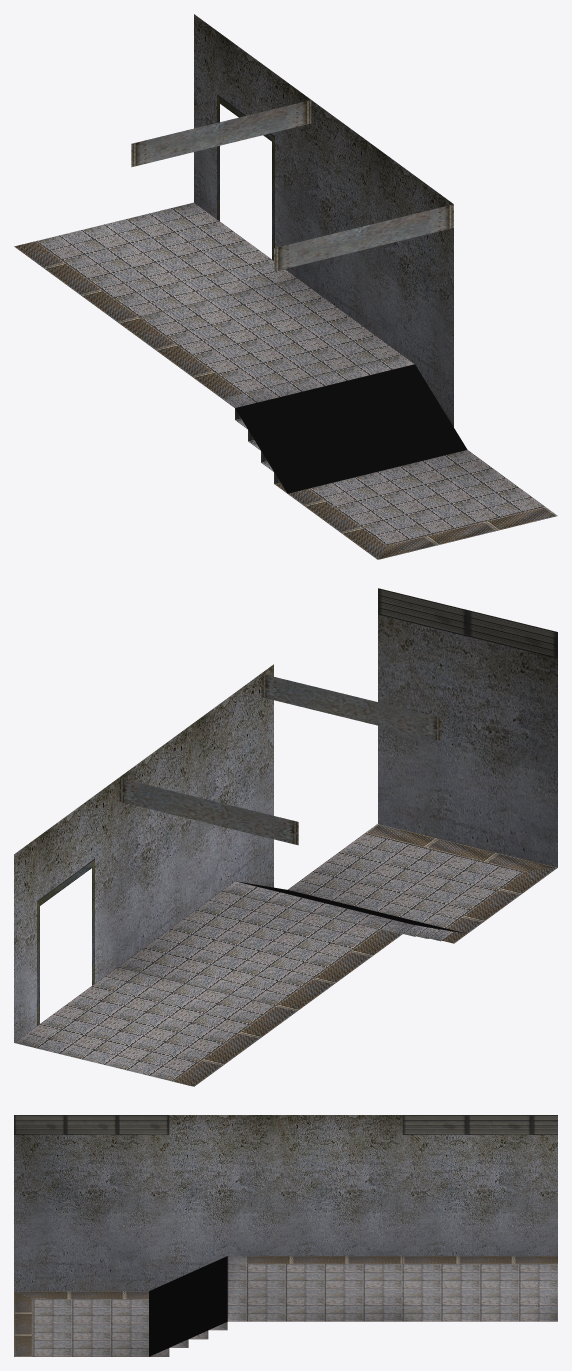
The model's file is M11Z2_SCUDHouse02_C.glb.
The picture shows the model from 3 angles, top to bottom: view 1: azimuth 30°, elevation 25°; view 2: azimuth 150°, elevation 25°; view 3: azimuth 270°, elevation 25°; orthographic projection. The views are drawn at different scales.
Visible parts, largest first — view 1: M11Z2_SCUDHOUSE02_C; view 2: M11Z2_SCUDHOUSE02_C; view 3: M11Z2_SCUDHOUSE02_C.
Part boxes in pixels (bbox=[...]): M11Z2_SCUDHOUSE02_C: bbox=[14, 14, 557, 559]; M11Z2_SCUDHOUSE02_C: bbox=[14, 588, 557, 1086]; M11Z2_SCUDHOUSE02_C: bbox=[14, 1115, 557, 1356].
Bounding box in the file's own units: 4 × 5 × 14.
8 materials, 7 textured.
